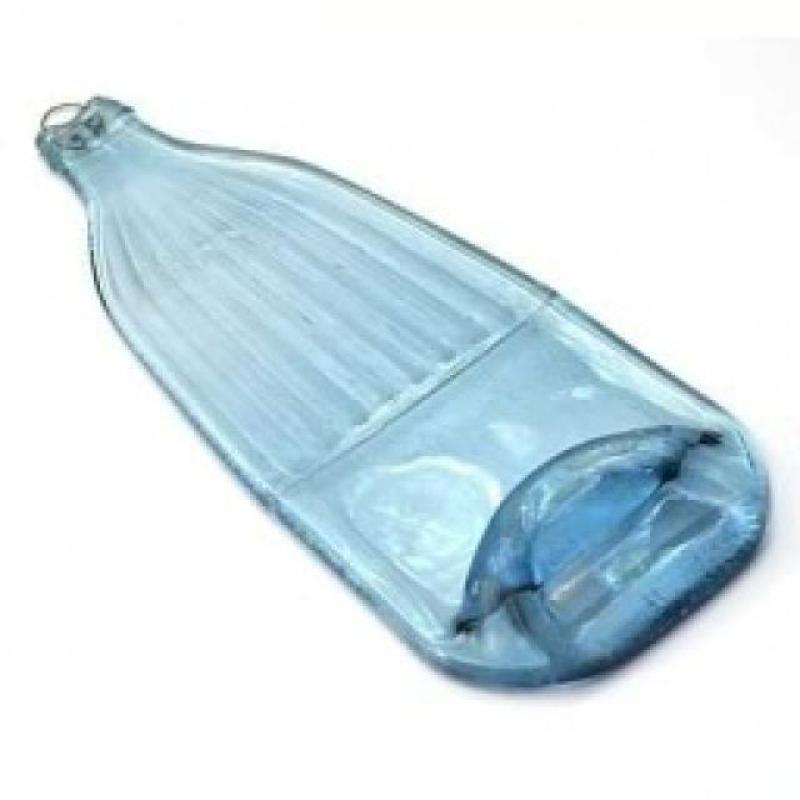botella: (38, 92, 772, 689)
